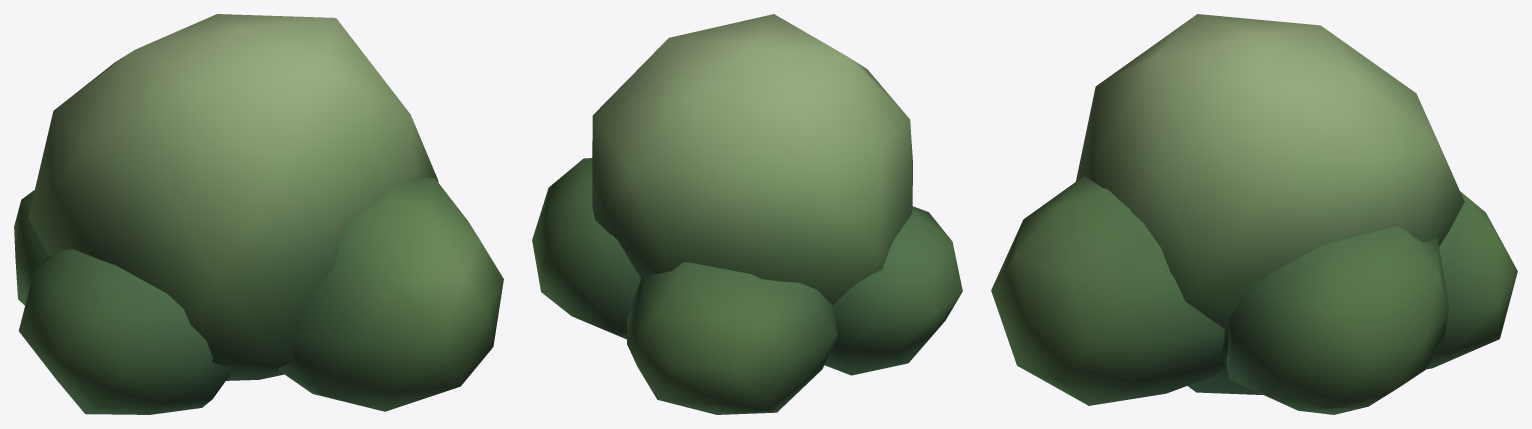
Rendered from bush.glb.
The picture shows the model from 3 angles, left to right: view 1: azimuth 30°, elevation 25°; view 2: azimuth 150°, elevation 25°; view 3: azimuth 270°, elevation 25°; orthographic projection. The views are drawn at different scales.
Visible parts, largest first — view 1: bush; view 2: bush; view 3: bush.
Part boxes in pixels (bbox=[...]): bush: bbox=[14, 14, 503, 414]; bush: bbox=[532, 14, 962, 414]; bush: bbox=[991, 14, 1517, 414].
Bounding box in the file's own units: 0.7548 × 0.6086 × 0.8461.
